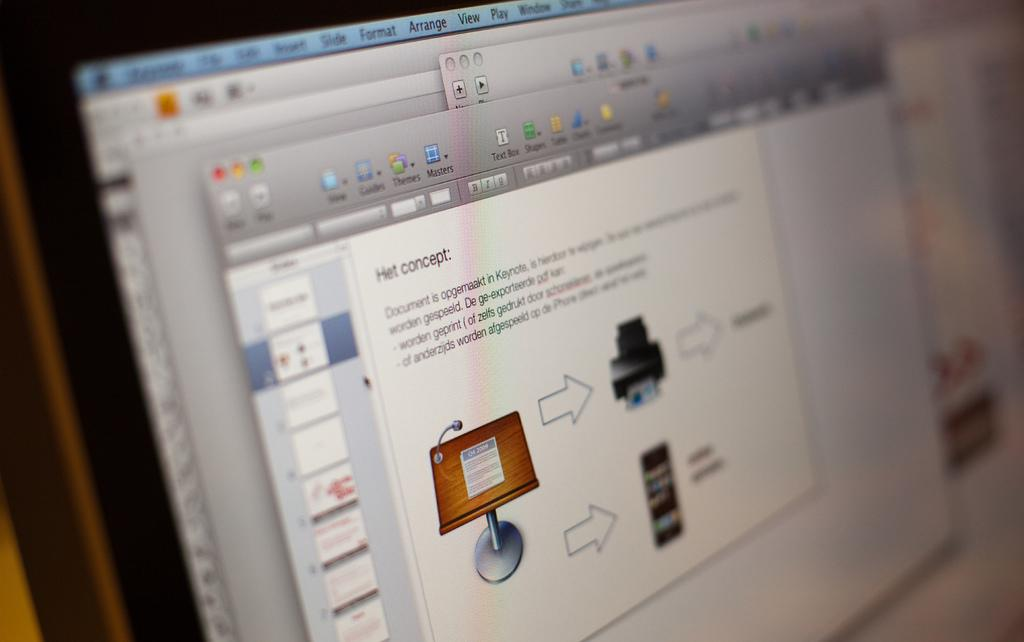Laptop: (66, 0, 912, 642)
